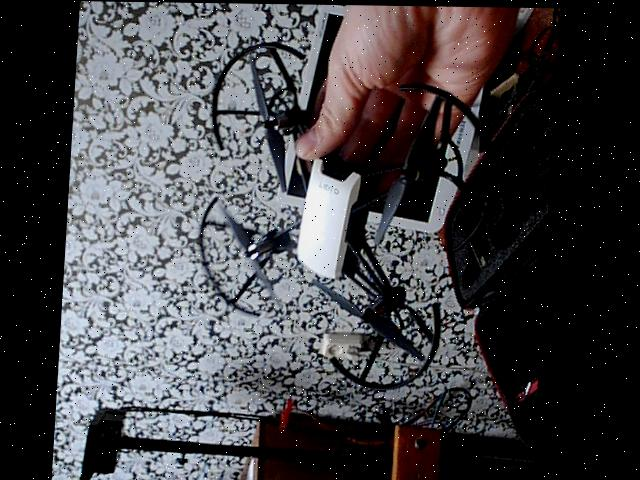drone: (194, 31, 490, 403)
